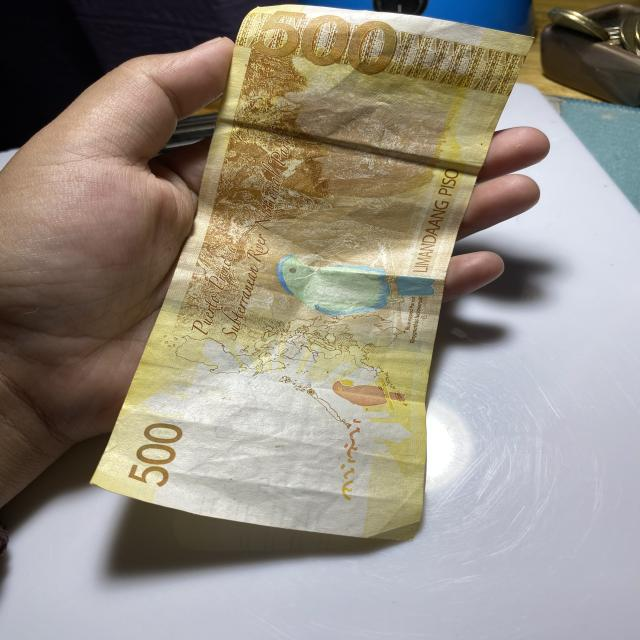500_big_parrot: (276, 245, 437, 318)
500_parrot_watermark: (332, 375, 403, 407)
value_watermark: (254, 474, 314, 500)
